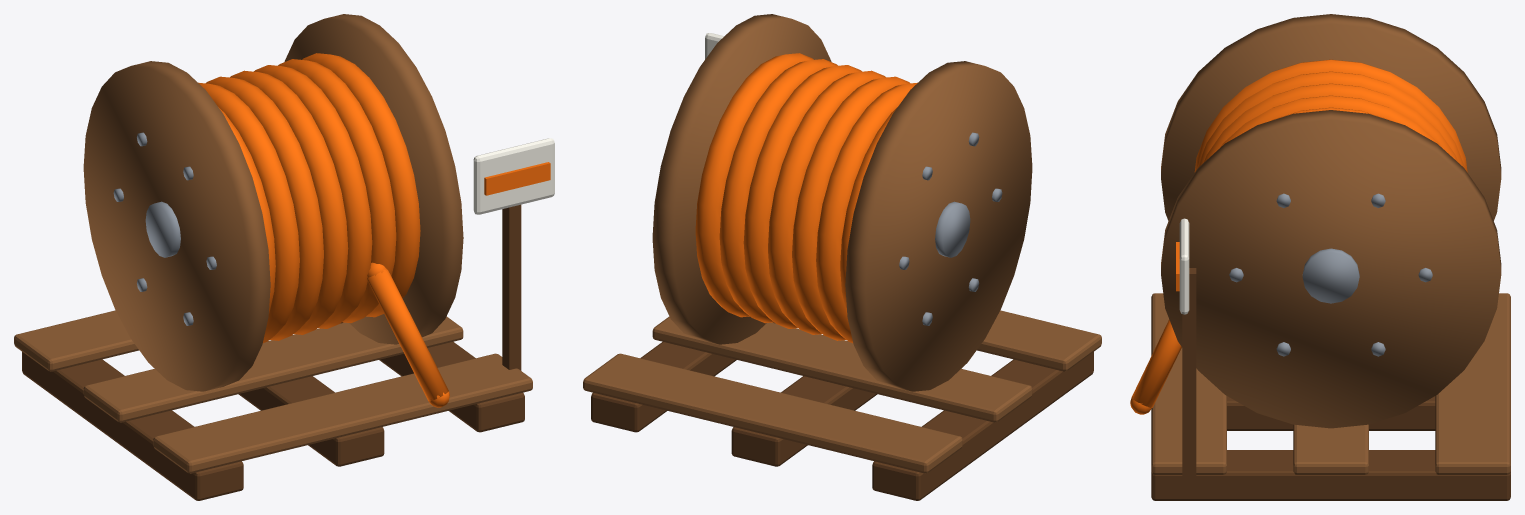
File: cable-spool.glb
The picture shows the model from 3 angles, left to right: view 1: azimuth 30°, elevation 25°; view 2: azimuth 150°, elevation 25°; view 3: azimuth 270°, elevation 25°; orthographic projection.
Parts seen in each view (by area): view 1: cable_spool; view 2: cable_spool; view 3: cable_spool.
Boxes of the visible parts, x1=… form: cable_spool: x1=14, y1=14, x2=554, y2=500; cable_spool: x1=583, y1=14, x2=1101, y2=500; cable_spool: x1=1130, y1=14, x2=1510, y2=500.
Bounding box in the file's own units: 0.95 × 0.825 × 0.805.
